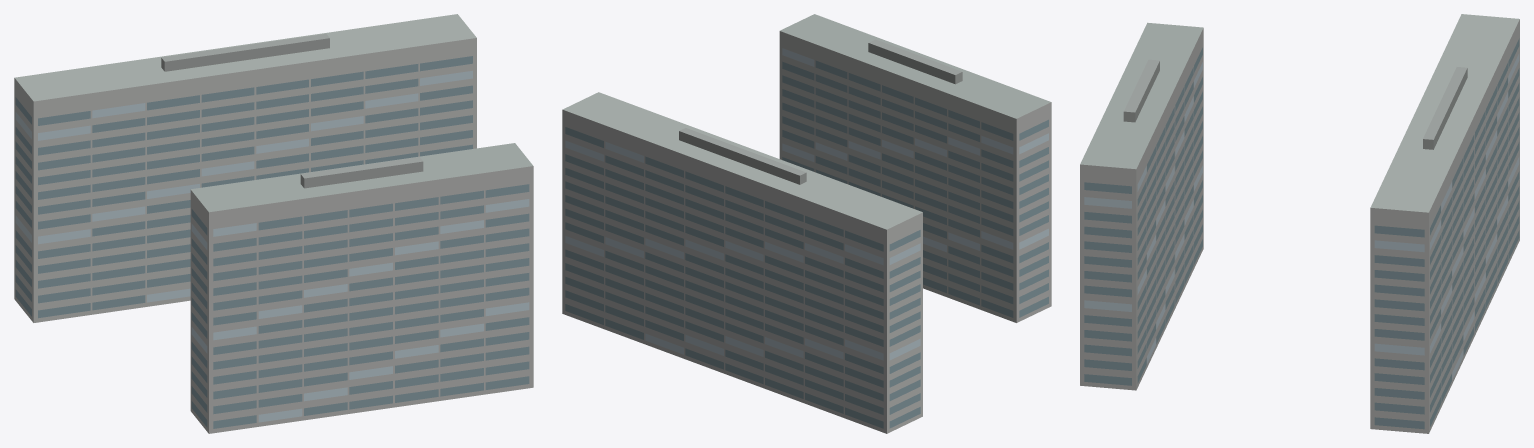
Rendered from apt-a15009604.glb.
3 views of the same model, side by side, from view 1: azimuth 30°, elevation 25°; view 2: azimuth 150°, elevation 25°; view 3: azimuth 270°, elevation 25° (orthographic). The views are drawn at different scales.
Visible parts, largest first — view 1: apt-a15009604; view 2: apt-a15009604; view 3: apt-a15009604.
Part boxes in pixels (x1,y1,x2,y2): apt-a15009604: [14, 14, 533, 433]; apt-a15009604: [562, 14, 1051, 433]; apt-a15009604: [1080, 14, 1519, 433].
Bounding box in the file's own units: 88.08 × 47.81 × 82.42.
